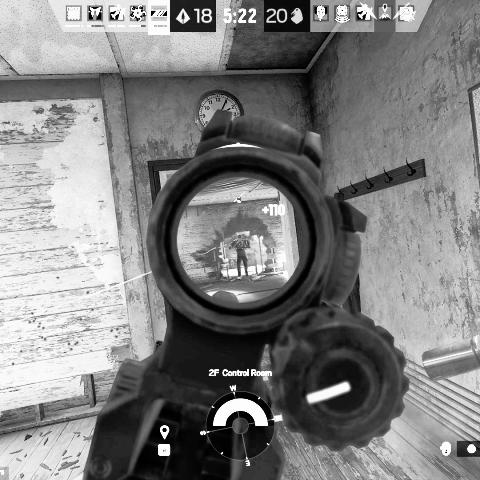Character: (228, 234, 250, 279)
Head: (238, 235, 243, 240)
